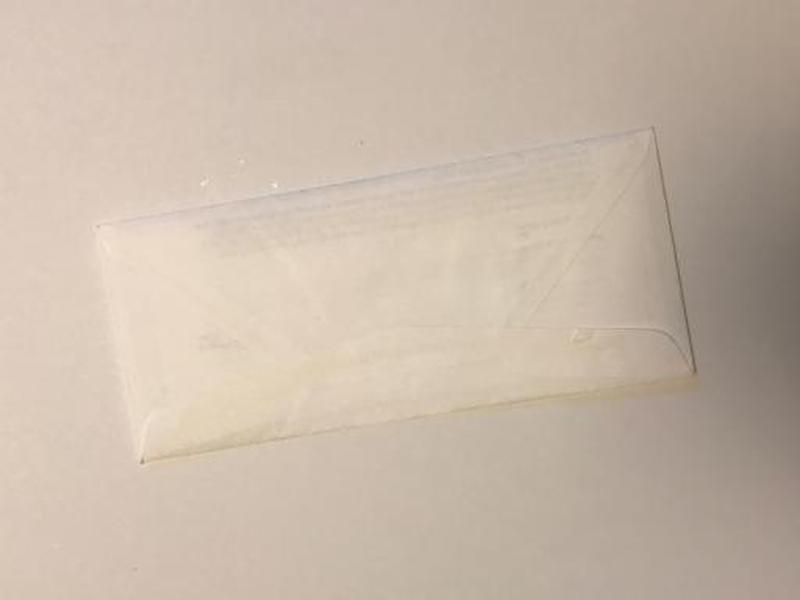paper: (85, 121, 699, 465)
